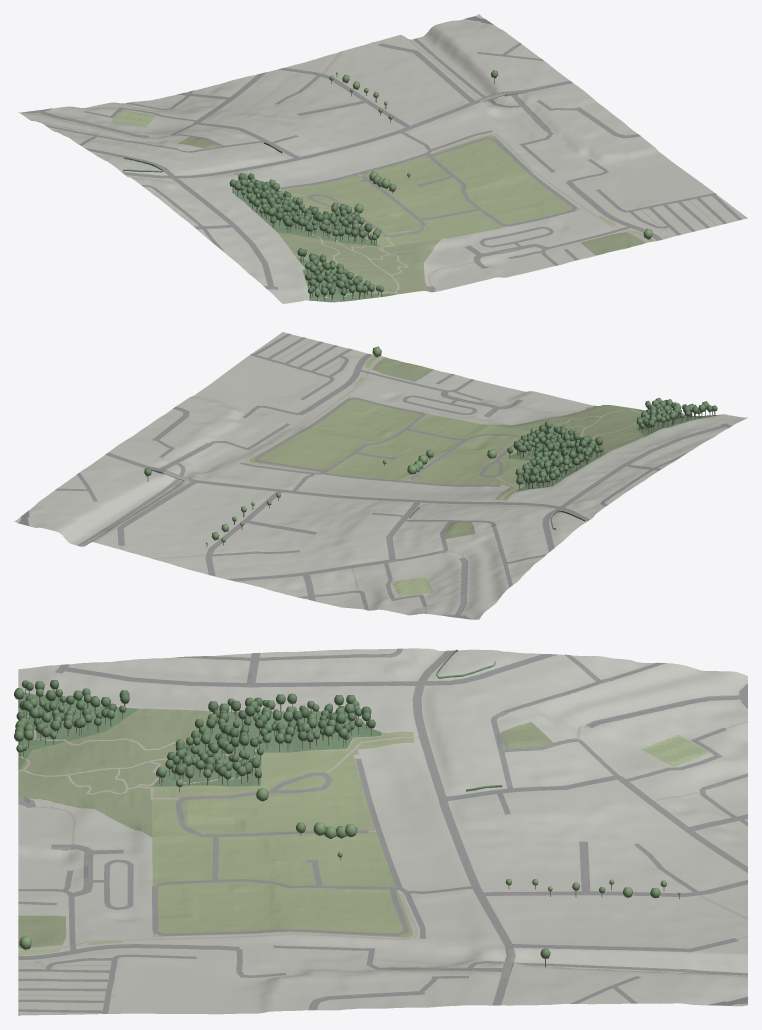
3 views of the same model, one above another, from view 1: azimuth 30°, elevation 25°; view 2: azimuth 150°, elevation 25°; view 3: azimuth 270°, elevation 25° (orthographic). The views are drawn at different scales.
Visible parts, largest first — view 1: t13_03_terrain, way/31761608@t13_03, t13_03_roads_minor, way/1045119812@t13_03, way/1045119822@t13_03_canopy, relation/13977203@t13_03_canopy, t13_03_roads_path, way/1045119822@t13_03, relation/13977203@t13_03, way/211449779@t13_03, t13_03_trees_mapped; view 2: t13_03_terrain, t13_03_roads_minor, way/31761608@t13_03, way/1045119822@t13_03_canopy, way/1045119812@t13_03, t13_03_roads_path, relation/13977203@t13_03_canopy, way/1045119822@t13_03, t13_03_trees_mapped, way/211449779@t13_03, relation/13977203@t13_03; view 3: t13_03_terrain, way/31761608@t13_03, t13_03_roads_minor, way/1045119812@t13_03, way/1045119822@t13_03_canopy, way/1045119822@t13_03, relation/13977203@t13_03_canopy, t13_03_roads_path, relation/13977203@t13_03, t13_03_trees_mapped, way/211449779@t13_03, way/1206097655@t13_03.
Boxes of the visible parts, bbox=[...] form: t13_03_terrain: bbox=[18, 14, 746, 303]; way/31761608@t13_03: bbox=[233, 135, 579, 246]; t13_03_roads_minor: bbox=[22, 38, 747, 292]; way/1045119812@t13_03: bbox=[277, 232, 441, 294]; way/1045119822@t13_03_canopy: bbox=[229, 173, 380, 244]; relation/13977203@t13_03_canopy: bbox=[297, 248, 384, 301]; t13_03_roads_path: bbox=[67, 42, 717, 301]; way/1045119822@t13_03: bbox=[233, 187, 379, 246]; relation/13977203@t13_03: bbox=[296, 257, 396, 302]; way/211449779@t13_03: bbox=[580, 232, 645, 255]; t13_03_trees_mapped: bbox=[329, 70, 652, 239]; t13_03_terrain: bbox=[14, 332, 747, 619]; t13_03_roads_minor: bbox=[55, 332, 731, 619]; way/31761608@t13_03: bbox=[249, 397, 545, 500]; way/1045119822@t13_03_canopy: bbox=[507, 420, 603, 489]; way/1045119812@t13_03: bbox=[490, 405, 644, 452]; t13_03_roads_path: bbox=[120, 339, 707, 613]; relation/13977203@t13_03_canopy: bbox=[636, 397, 717, 433]; way/1045119822@t13_03: bbox=[508, 434, 606, 491]; t13_03_trees_mapped: bbox=[144, 346, 535, 546]; way/211449779@t13_03: bbox=[372, 357, 433, 381]; relation/13977203@t13_03: bbox=[633, 408, 719, 436]; t13_03_terrain: bbox=[18, 648, 747, 1015]; way/31761608@t13_03: bbox=[152, 731, 414, 937]; t13_03_roads_minor: bbox=[18, 648, 747, 1015]; way/1045119812@t13_03: bbox=[18, 708, 212, 837]; way/1045119822@t13_03_canopy: bbox=[156, 693, 375, 786]; way/1045119822@t13_03: bbox=[152, 711, 382, 786]; relation/13977203@t13_03_canopy: bbox=[14, 680, 129, 758]; t13_03_roads_path: bbox=[18, 716, 747, 997]; relation/13977203@t13_03: bbox=[18, 692, 139, 770]; t13_03_trees_mapped: bbox=[19, 779, 680, 967]; way/211449779@t13_03: bbox=[18, 915, 66, 947]; way/1206097655@t13_03: bbox=[500, 722, 553, 748].
Bounding box in the file's own units: 500 × 47.44 × 503.
